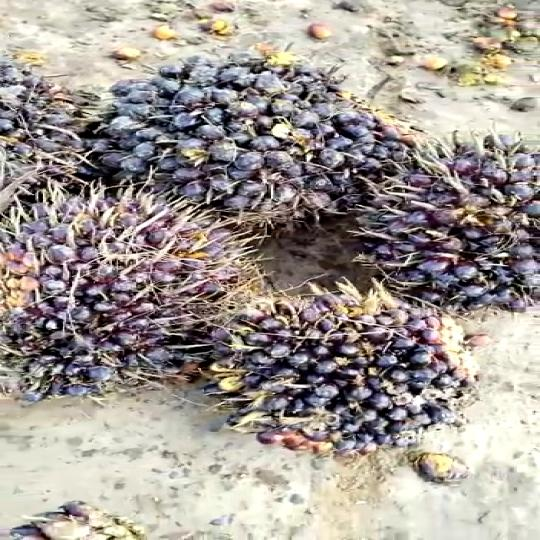mentah: (93, 51, 416, 232), (191, 294, 508, 457), (0, 187, 256, 386), (342, 110, 540, 334)
